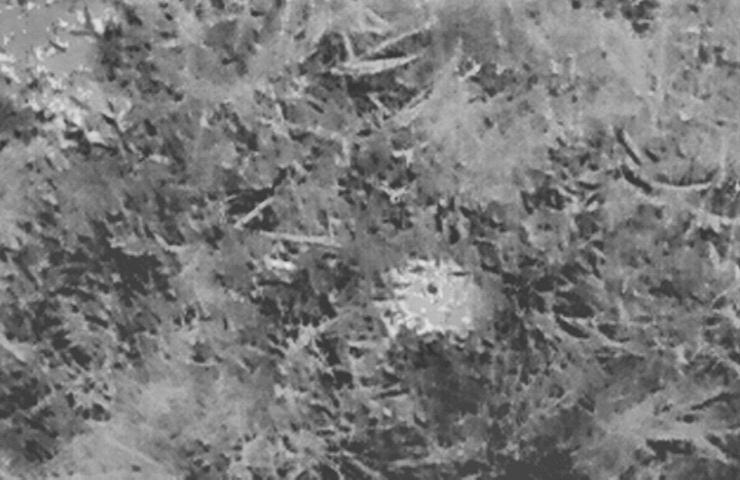landmines: (388, 251, 489, 343)
